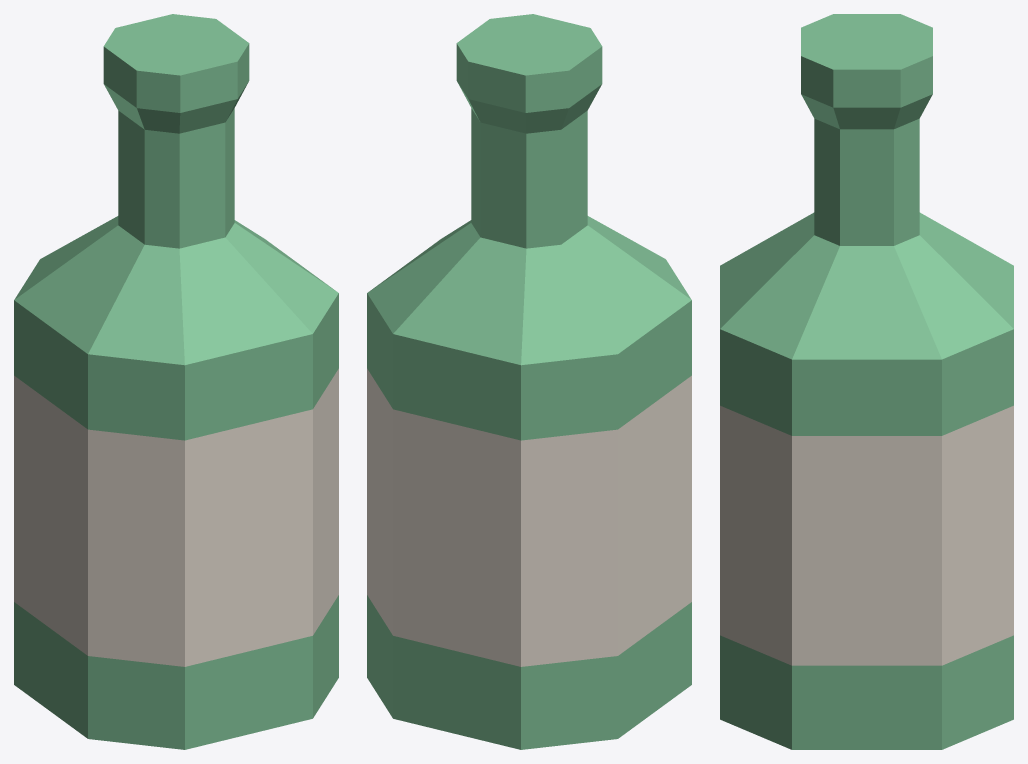
Rendered from bottle.glb.
The picture shows the model from 3 angles, left to right: view 1: azimuth 30°, elevation 25°; view 2: azimuth 150°, elevation 25°; view 3: azimuth 270°, elevation 25°; orthographic projection.
Parts seen in each view (by area): view 1: bottle; view 2: bottle; view 3: bottle.
Part boxes in pixels (bbox=[...]): bottle: bbox=[14, 14, 338, 749]; bottle: bbox=[367, 14, 691, 749]; bottle: bbox=[720, 14, 1013, 749].
Size of the model in its own units: 0.1739 by 0.4217 by 0.1739.
